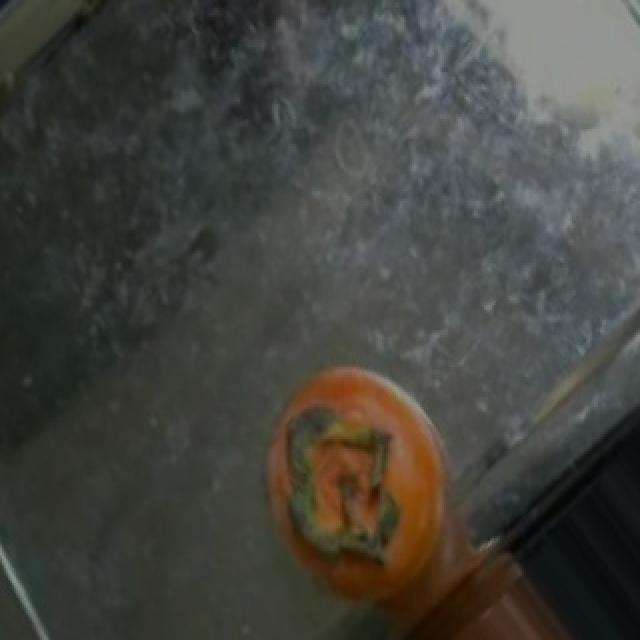Fruit: (240, 340, 472, 588), (0, 0, 154, 77)
